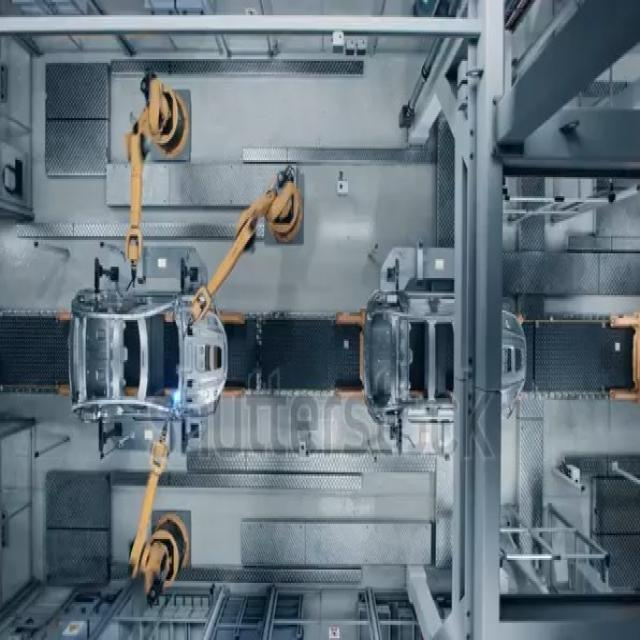auto: (355, 269, 531, 458), (70, 290, 228, 422)
robot: (178, 161, 310, 356), (126, 70, 196, 283), (124, 425, 197, 617)
